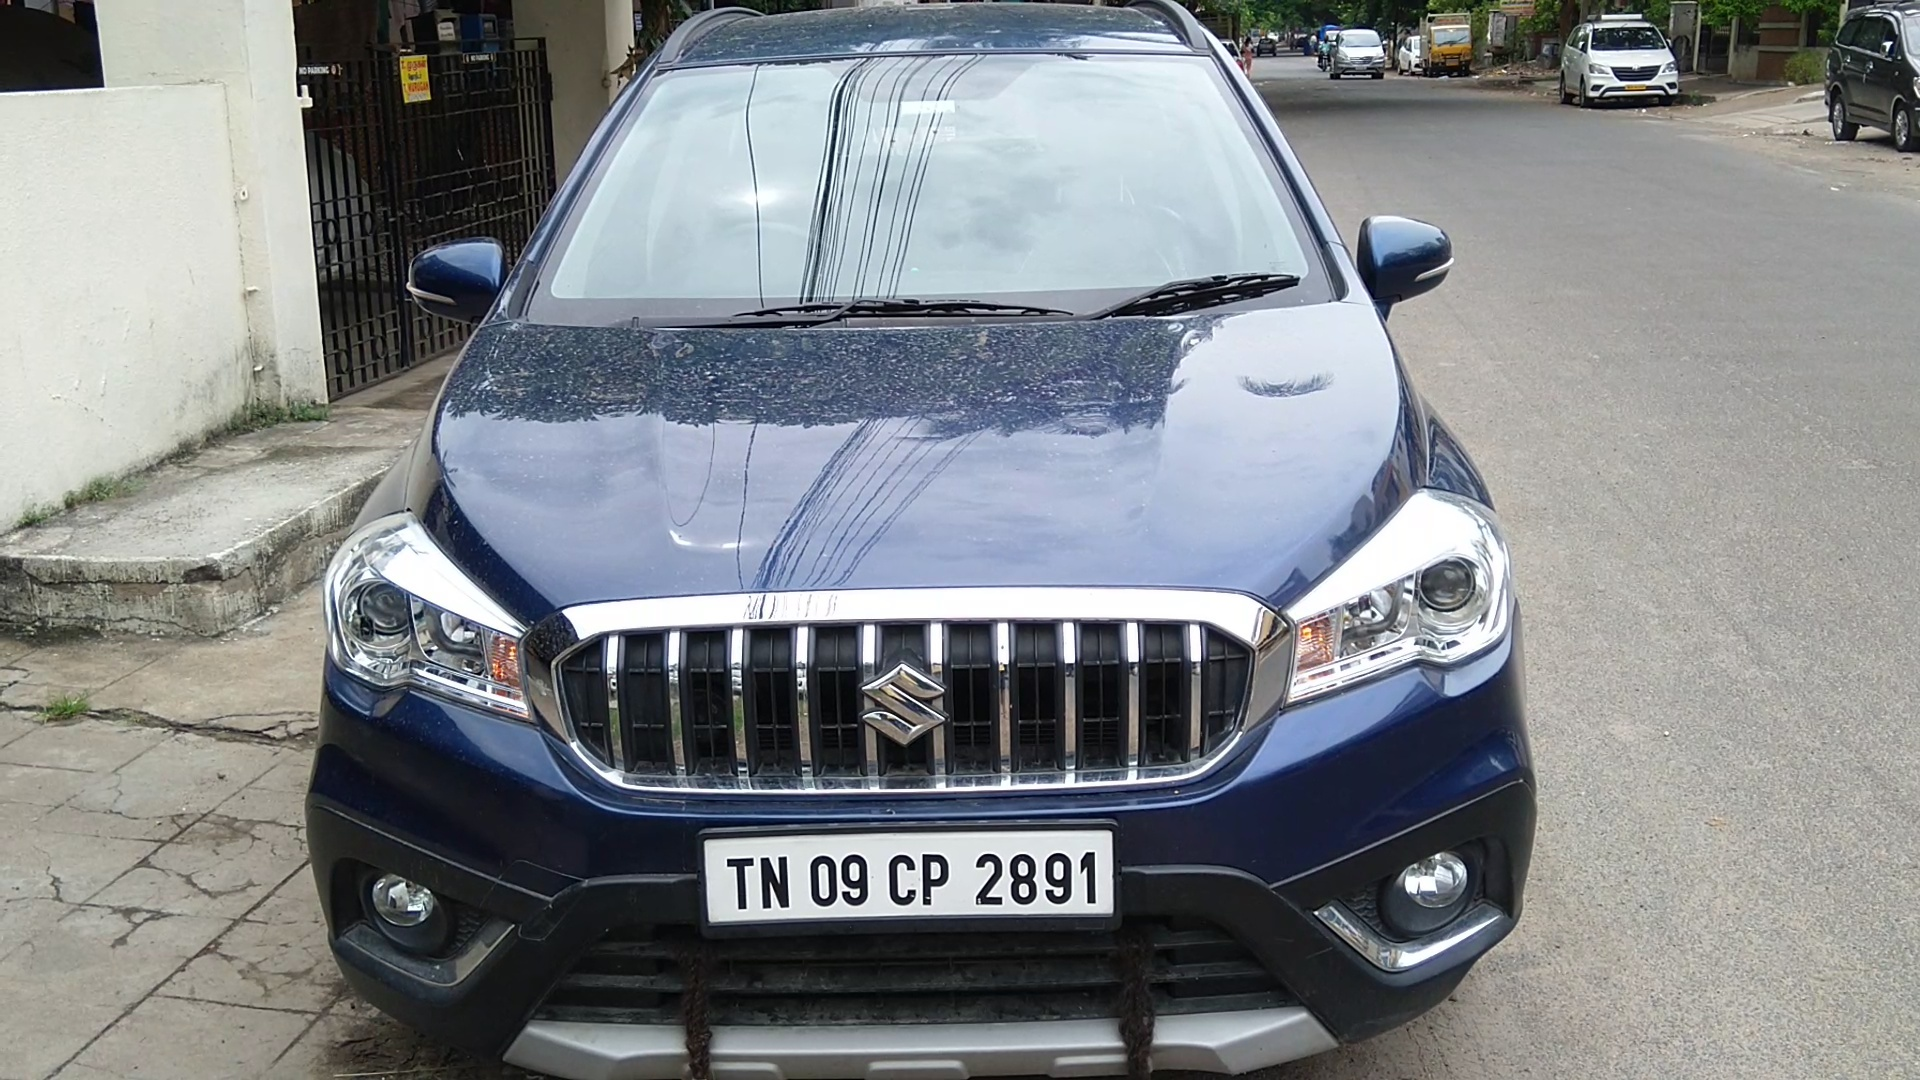front_grill: (535, 580, 1284, 827)
headlamp: (1291, 477, 1514, 745), (326, 502, 535, 723)
ovr_mirror: (1354, 202, 1458, 324), (401, 232, 512, 335)
